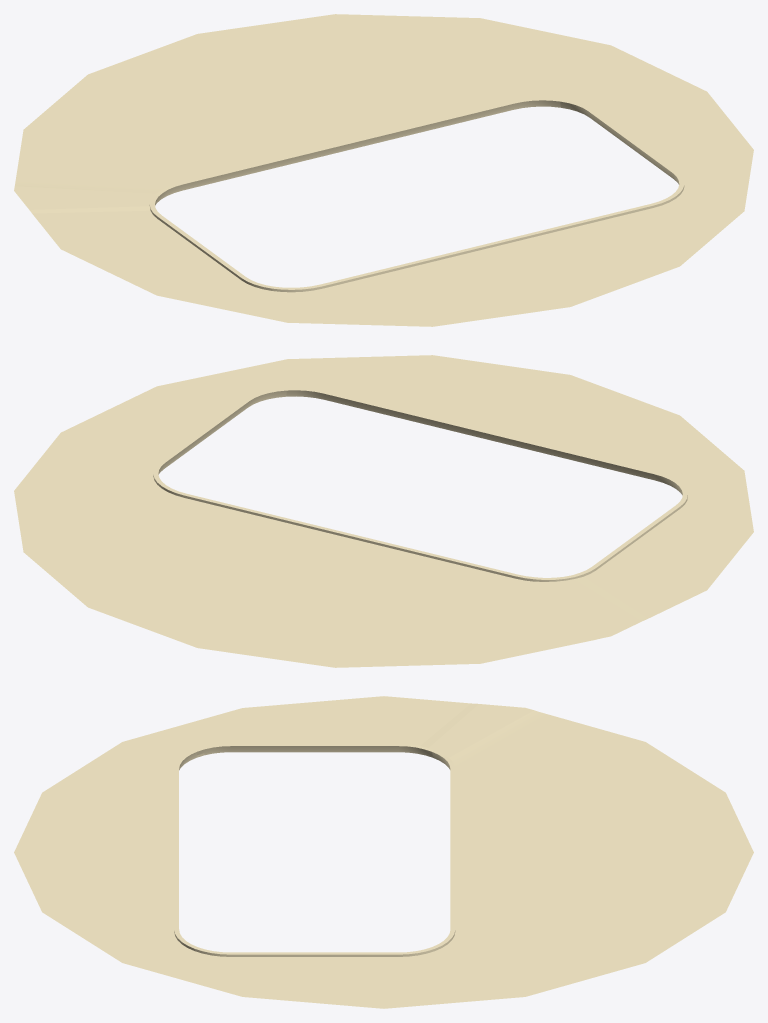
File: Ground.gltf
3 renders of one model, top to bottom at view 1: azimuth 30°, elevation 25°; view 2: azimuth 150°, elevation 25°; view 3: azimuth 270°, elevation 25°, orthographic.
Parts seen in each view (by area): view 1: Seat Base.001; view 2: Seat Base.001; view 3: Seat Base.001.
Boxes of the visible parts, x1,y1,x2,y2 form: Seat Base.001: (14,14,753,326); Seat Base.001: (14,355,753,667); Seat Base.001: (14,696,753,1008).
Bounding box in the file's own units: 74.66 × 0.7575 × 74.66.
Materials: 1 (1 with a texture image).
